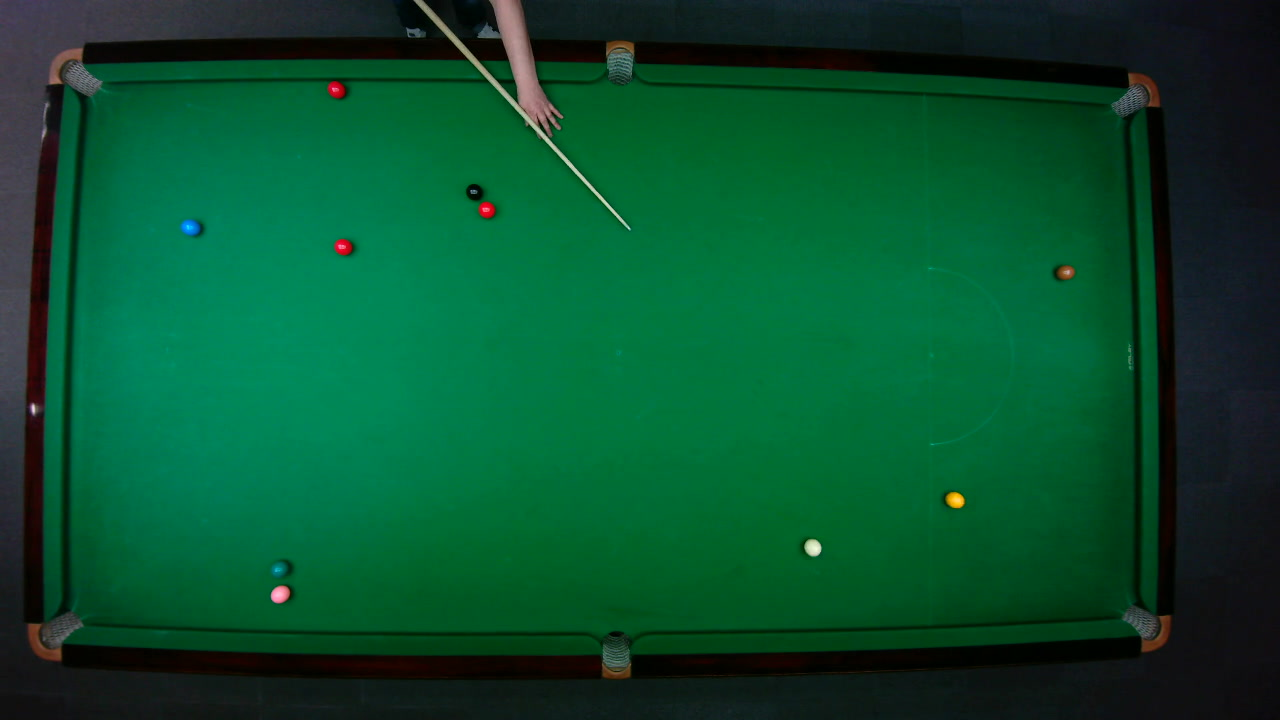bag: (25, 609, 84, 661), (46, 47, 103, 96), (1119, 603, 1171, 651), (1108, 72, 1160, 118), (601, 629, 630, 680), (605, 39, 633, 85)
black: (465, 183, 483, 200)
blue: (179, 218, 201, 235)
brown: (1054, 263, 1075, 280)
cue: (415, 1, 635, 233)
green: (269, 558, 290, 577)
pink: (269, 583, 290, 604)
red: (326, 79, 346, 98), (332, 237, 353, 255), (477, 200, 496, 219)
white: (801, 537, 822, 557)
yellow: (944, 490, 965, 508)
zone: (927, 265, 1013, 445)
